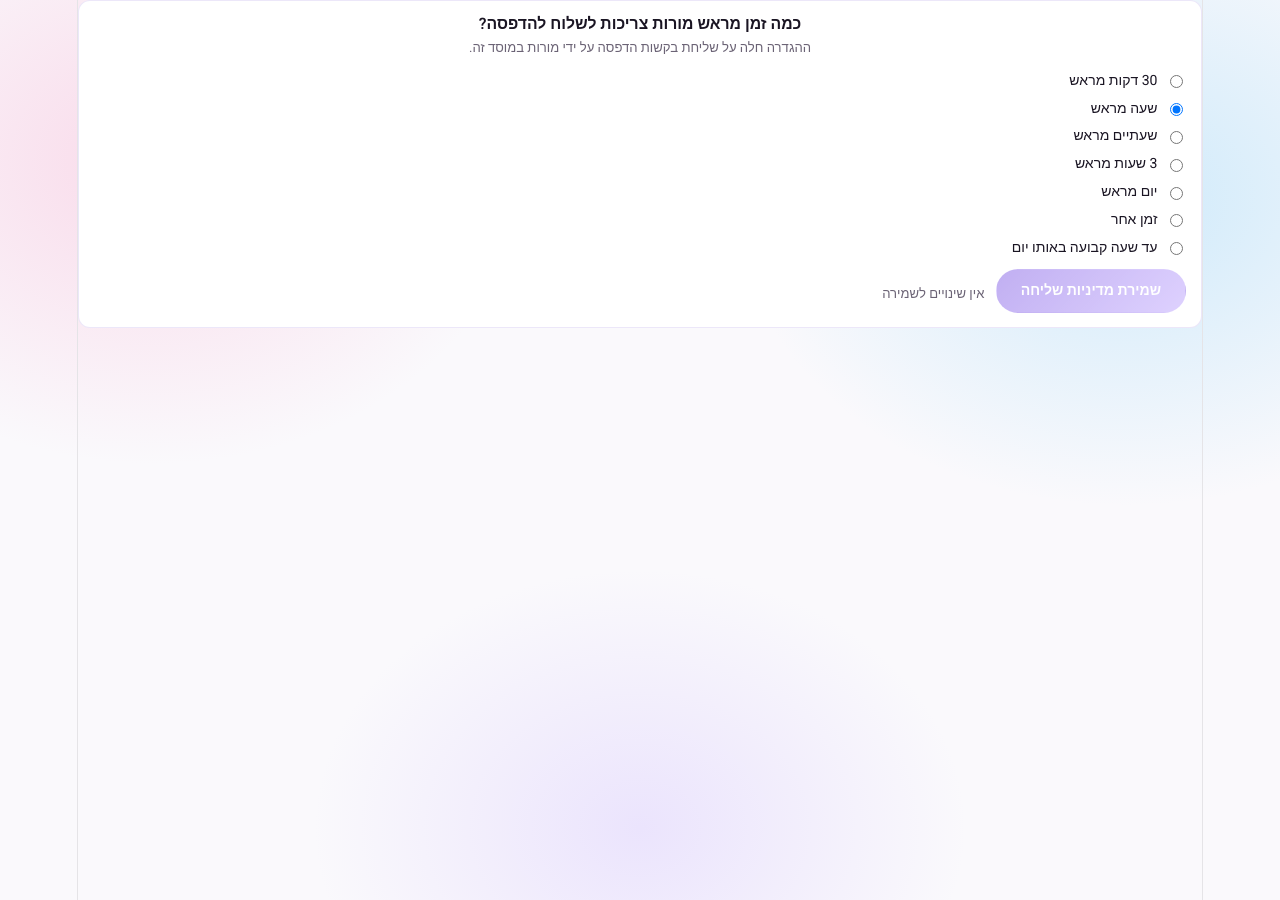
PrintingSubmissionPolicySettings › prevents duplicate submit while saving and preserves form on RPC error
Click the radio button labelled "3 שעות מראש" at (1176, 165), box [1170, 159, 1183, 172]
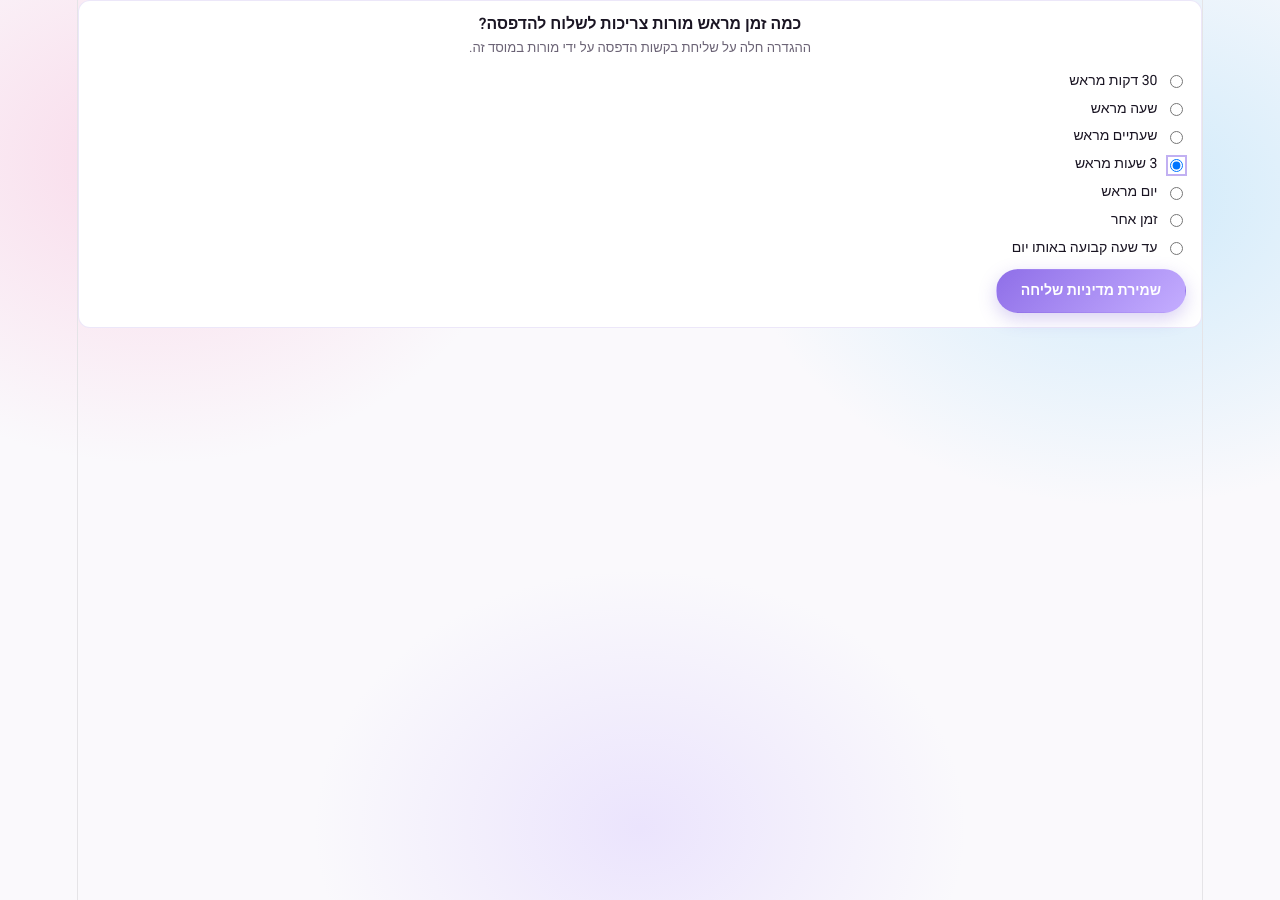
Click the button "שמירת מדיניות שליחה" at (1091, 291), box [996, 269, 1186, 313]
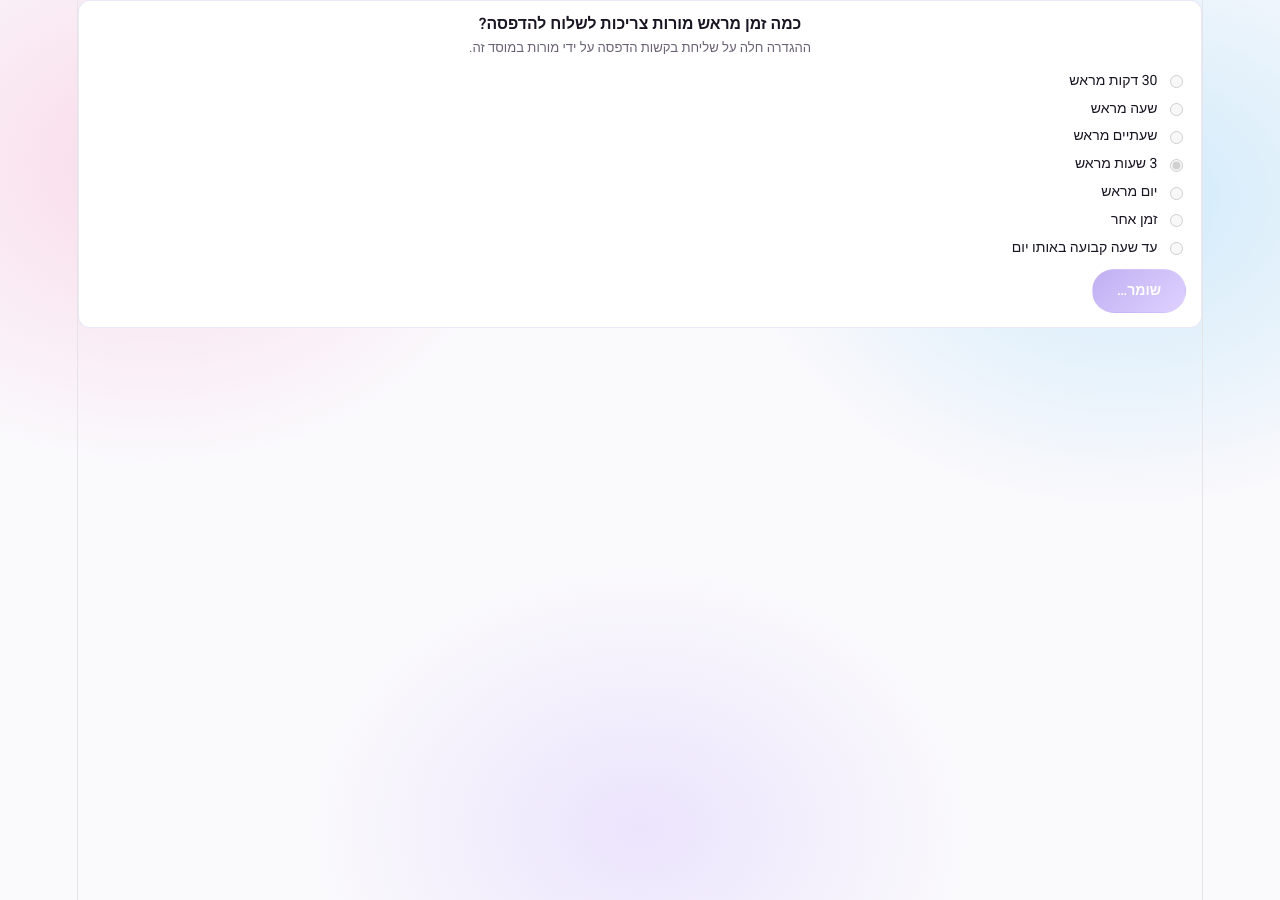
expect the button named "שמירת מדיניות שליחה" is disabled: met
Click the button named "שמירת מדיניות שליחה" at (1139, 291), box [1092, 269, 1186, 313]
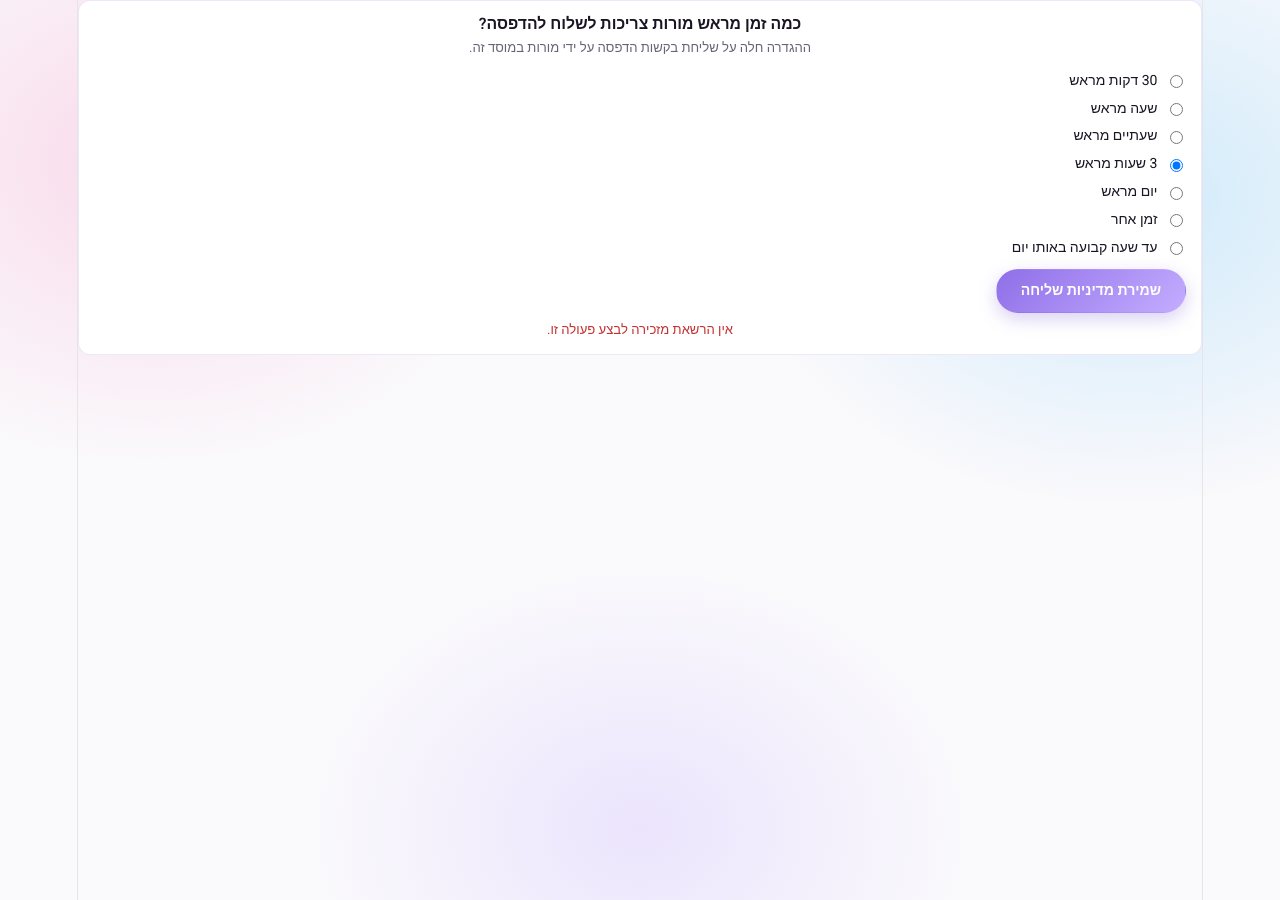
expect the radio button labelled "3 שעות מראש" is checked: met, box [1170, 159, 1183, 172]
expect the message shows "מזכירה": met, box [547, 320, 733, 340]
